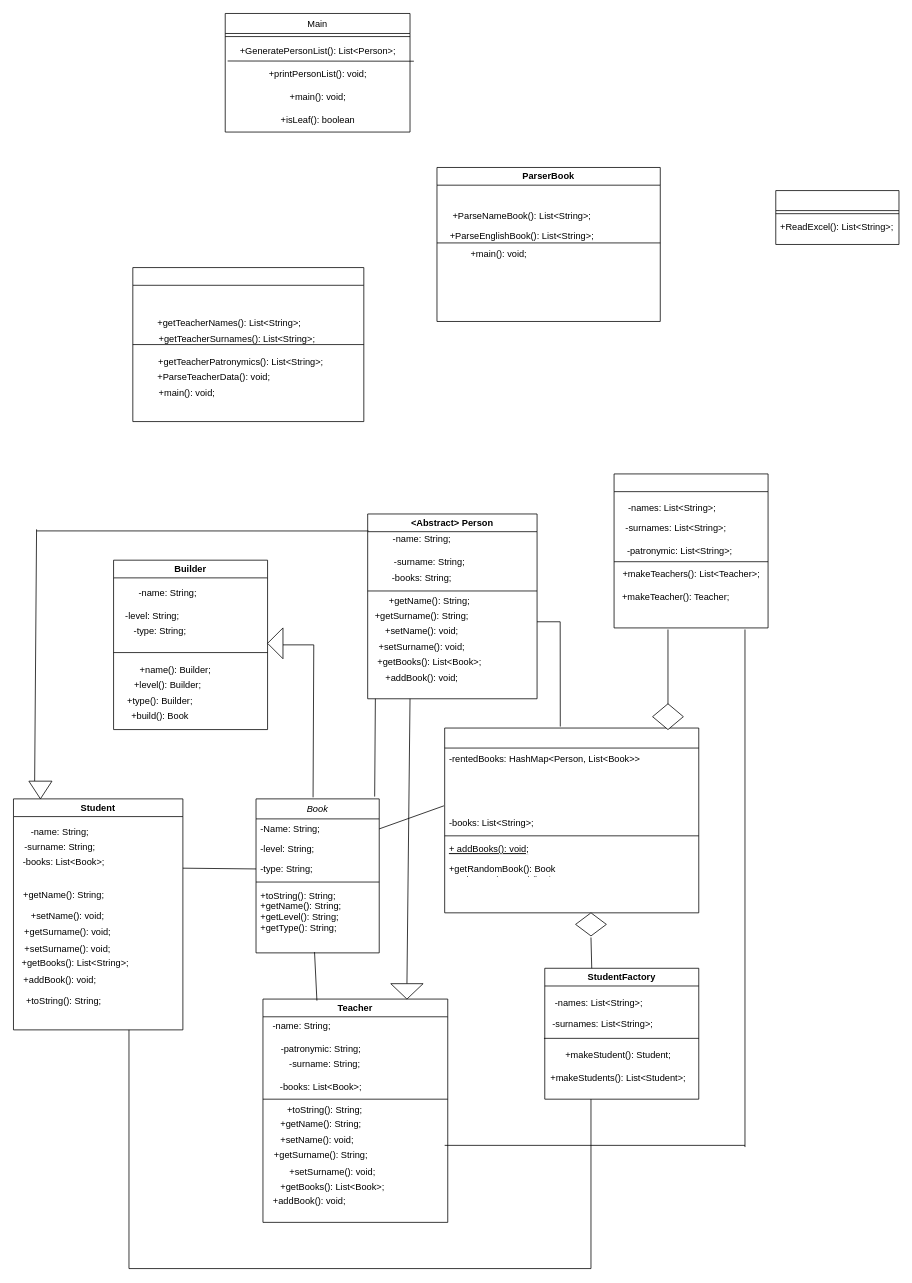
This 912x1283 diagram has some shape labels left out. Each missing label, with the box of its shape:
ExcelReader: (775, 190, 899, 244)
Library: (444, 727, 699, 913)
ParserFIO: (132, 267, 364, 422)
TeacherFactory: (613, 473, 768, 628)
